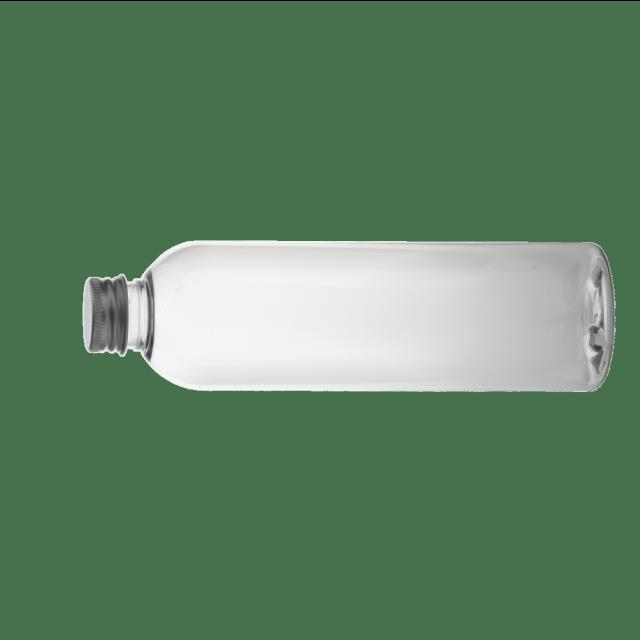bottom: (581, 251, 614, 381)
neck: (83, 269, 154, 361)
